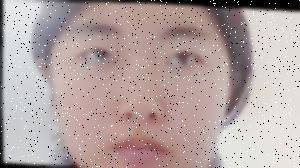eye: (177, 51, 189, 62), (95, 49, 106, 59)
iris: (163, 49, 199, 66), (77, 48, 113, 61)
